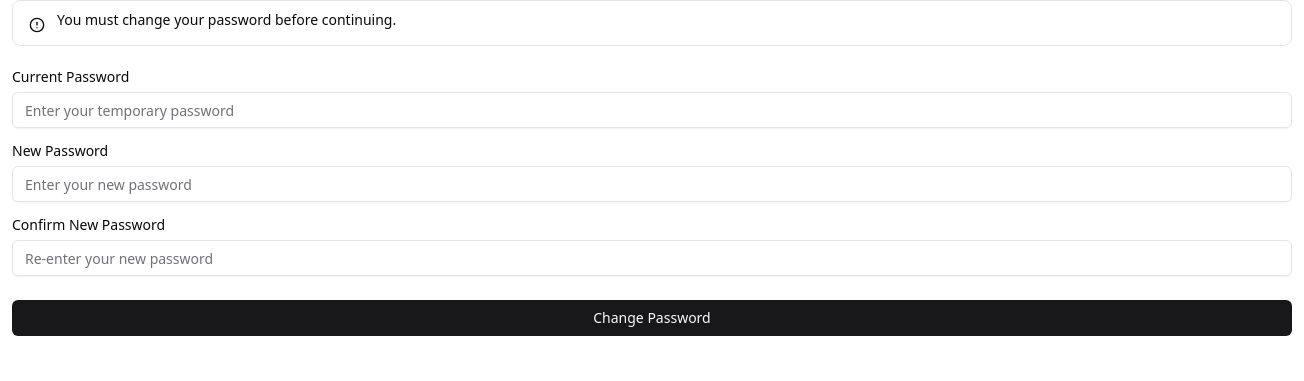
ChangePasswordForm › rejects short new password
The image size is (1304, 381).
Type "temppass123" into the password field labelled "Current Password".
click(652, 110); type("temppass123")  # box [12,92,1292,128]
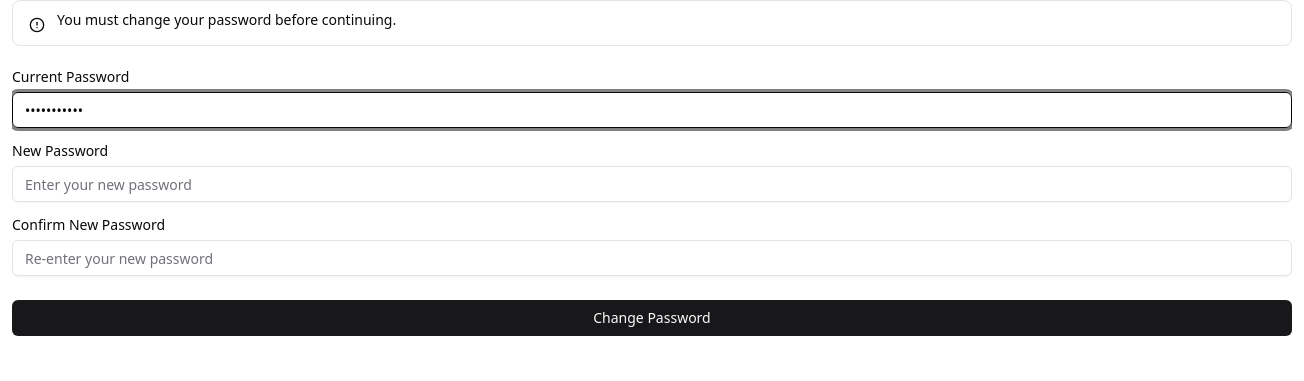
Type "short" into the password field labelled "New Password".
click(652, 184); type("short")  # box [12,166,1292,202]
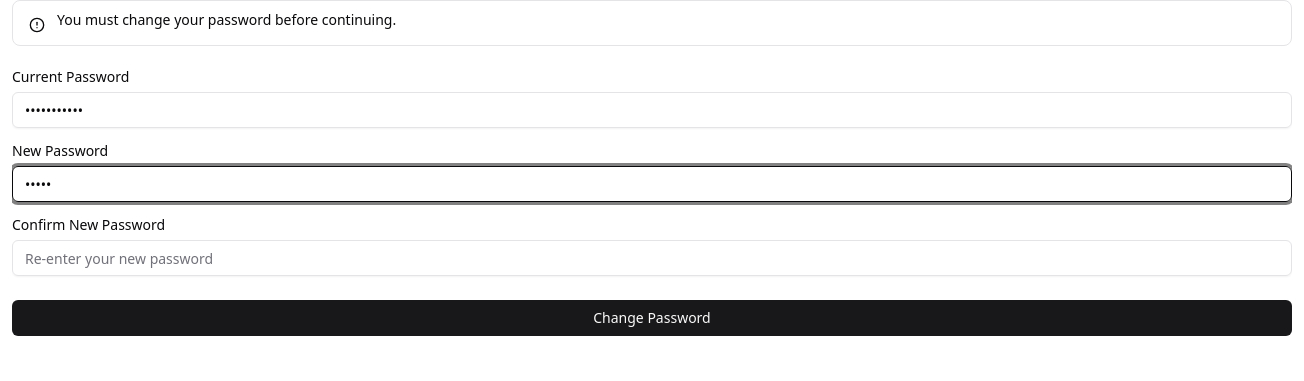
Type "short" into the password field labelled "Confirm New Password".
click(652, 258); type("short")  # box [12,240,1292,276]
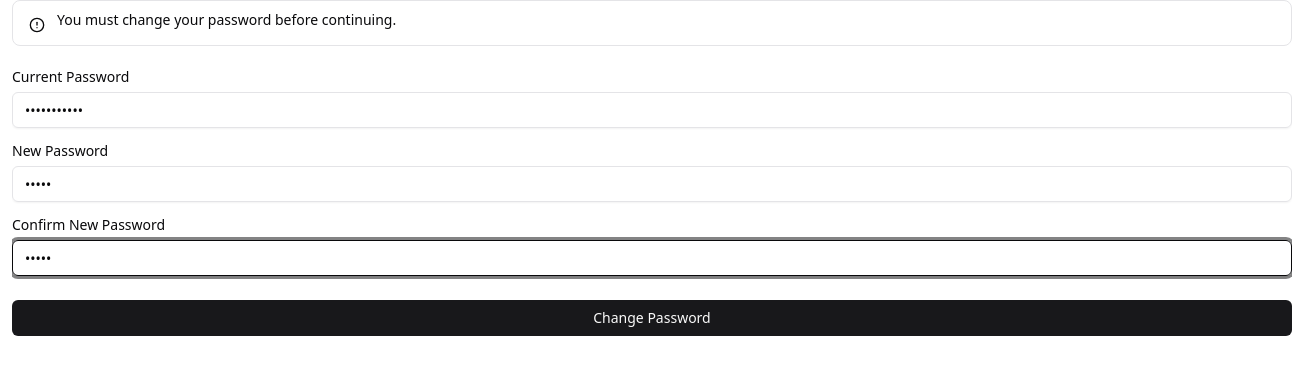
Click the button "Change Password".
click(652, 318)  # box [12,300,1292,336]
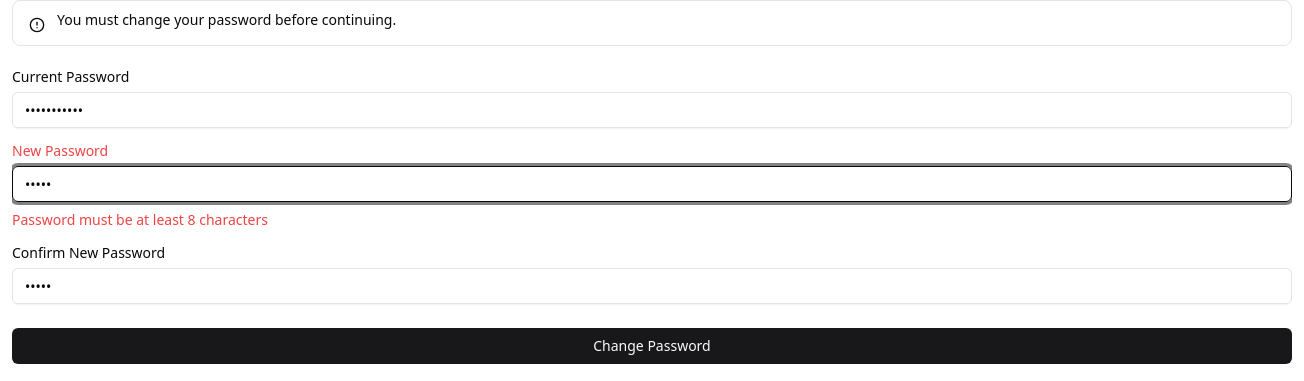
Check: the text "Password must be at least 8 characters" is shown, box [12,210,268,229]
